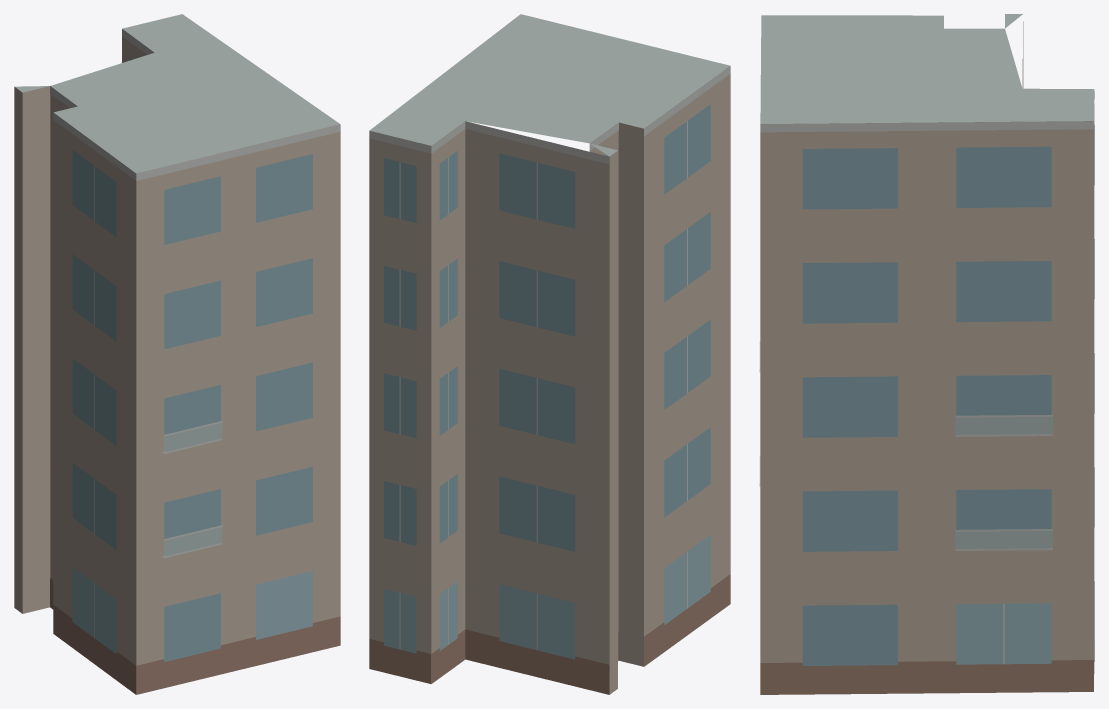
File: survey-upis-32510310.glb
3 views of the same model, side by side, from view 1: azimuth 30°, elevation 25°; view 2: azimuth 150°, elevation 25°; view 3: azimuth 270°, elevation 25° (orthographic). The views are drawn at different scales.
Visible parts, largest first — view 1: survey-upis-32510310.tmp; view 2: survey-upis-32510310.tmp; view 3: survey-upis-32510310.tmp.
Part boxes in pixels (box(x1,y1,x2,y2)): survey-upis-32510310.tmp: box(14, 14, 340, 694); survey-upis-32510310.tmp: box(369, 14, 730, 694); survey-upis-32510310.tmp: box(759, 14, 1094, 694).
Bounding box in the file's own units: 7 × 16.9 × 8.99.
